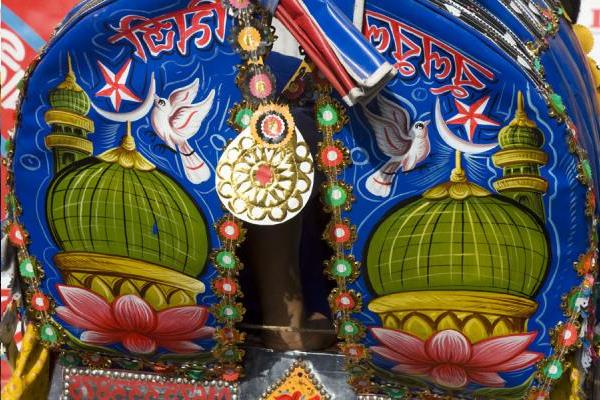Rickshaw: (12, 2, 592, 399)
